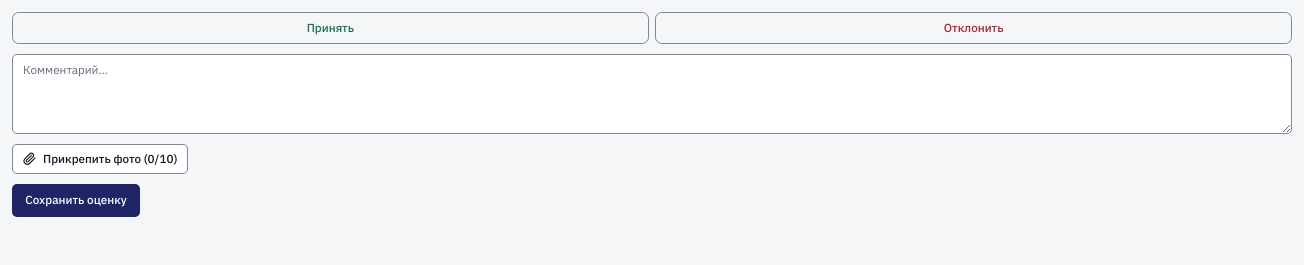
Test: SubmissionForm — grade validation › requires a verdict before a grade can be submitted
Click the button "Сохранить оценку" at (76, 201), box x1=12 y1=184 x2=140 y2=217
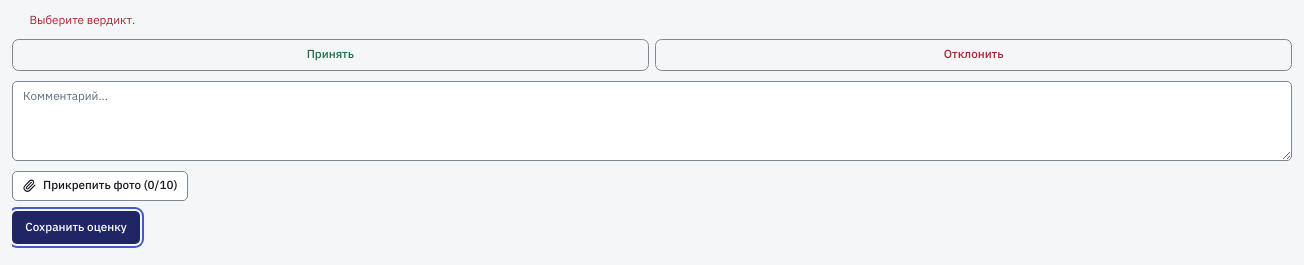
expect the text "Выберите вердикт." is shown: met, box x1=30 y1=12 x2=135 y2=27
